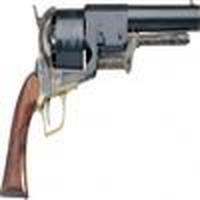gun: (4, 1, 200, 187)
